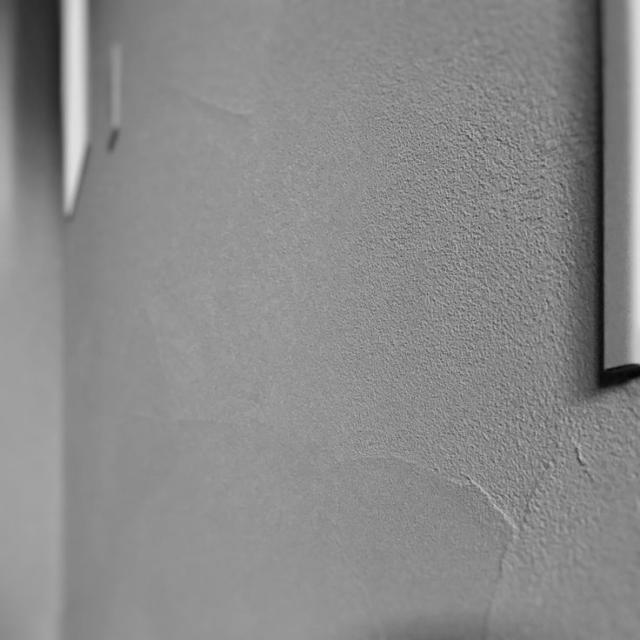trowels marks: (308, 389, 640, 640), (136, 32, 295, 206)
